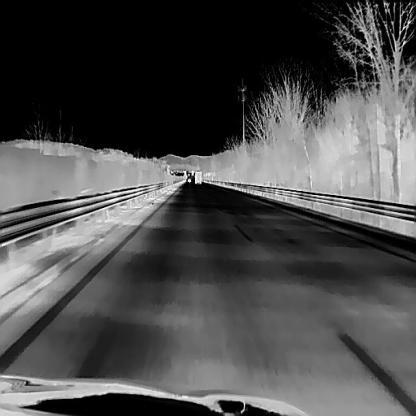car: (194, 169, 201, 183)
